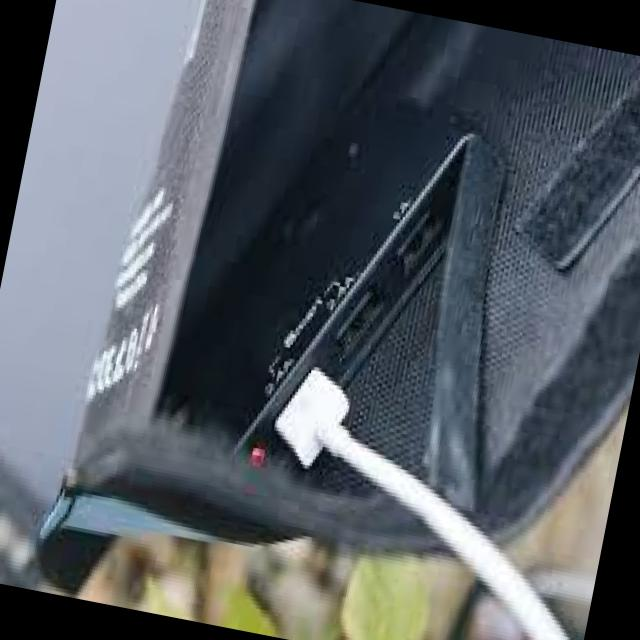portable-charger: (138, 54, 490, 524)
